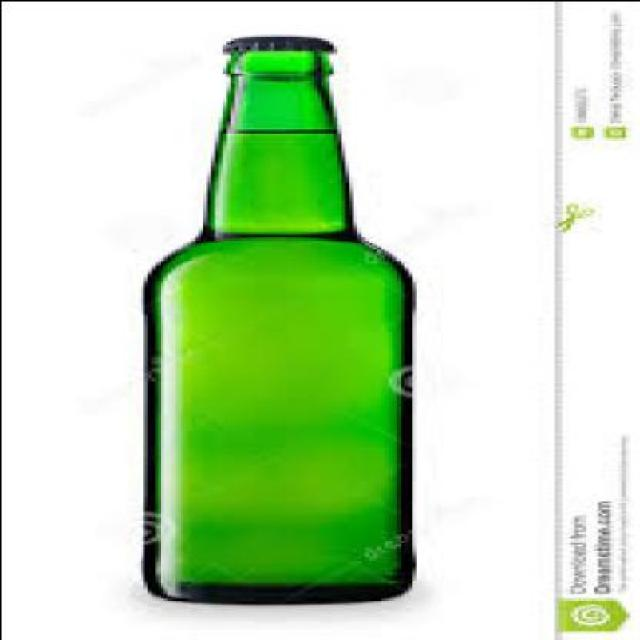GLASS: (134, 45, 411, 602)
METAL: (222, 33, 336, 52)
